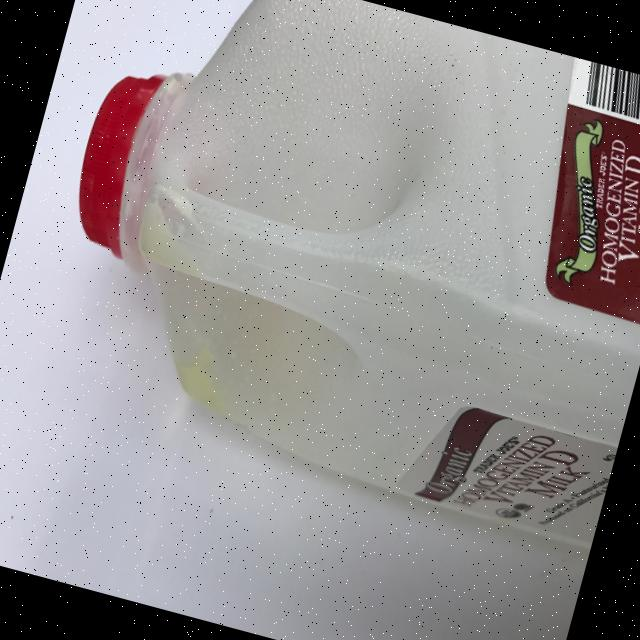plastic: (18, 0, 640, 547)
